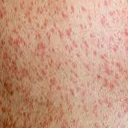Measles: (1, 9, 125, 126)
